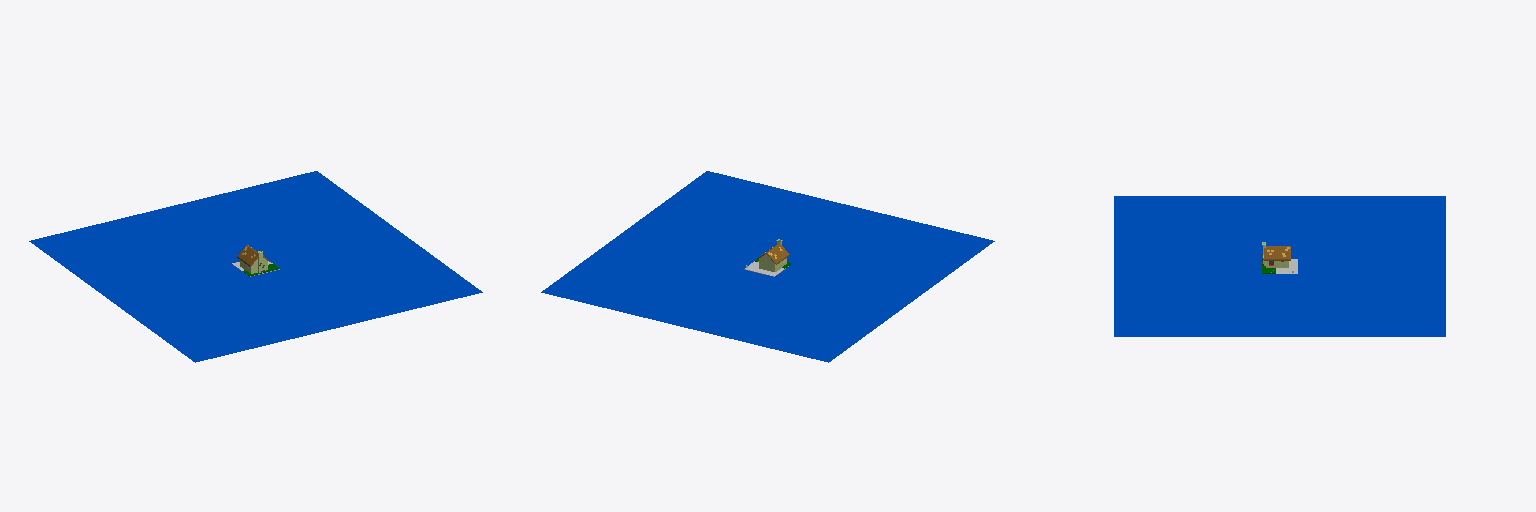
Rendered from kursachKG.obj.
The picture shows the model from 3 angles: view 1: azimuth 30°, elevation 25°; view 2: azimuth 150°, elevation 25°; view 3: azimuth 270°, elevation 25°; orthographic projection.
Parts seen in each view (by area): view 1: Plane.026; view 2: Plane.026; view 3: Plane.026.
Boxes of the visible parts, x1,y1,x2,y2 form: Plane.026: [29, 171, 482, 362]; Plane.026: [541, 171, 994, 362]; Plane.026: [1114, 196, 1445, 336].
Size of the model in its own units: 108 by 7.7 by 108.